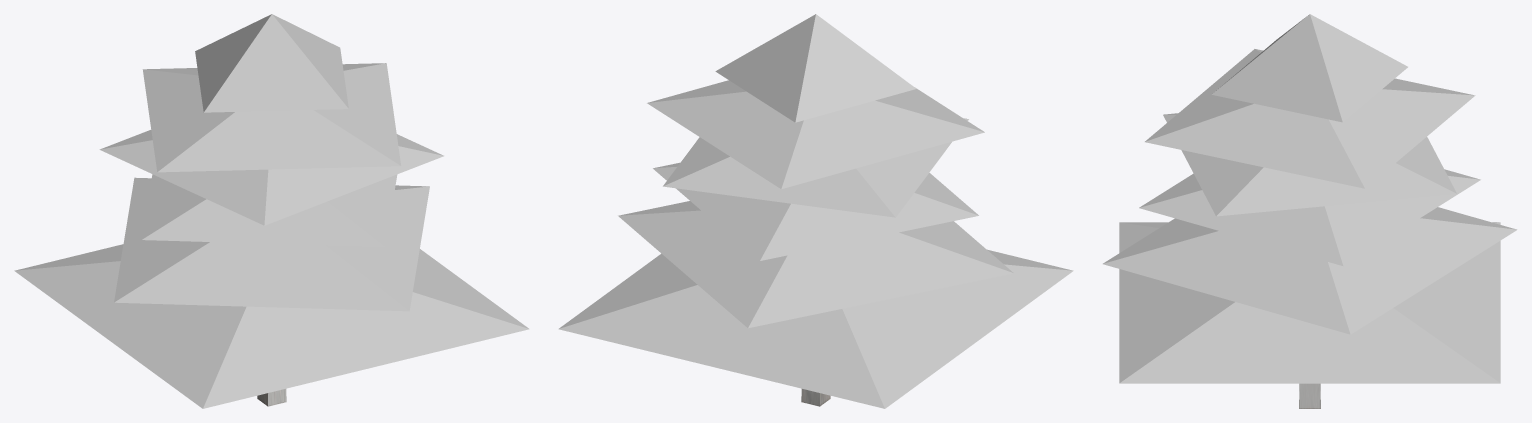
File: tree.fbx
The picture shows the model from 3 angles, left to right: view 1: azimuth 30°, elevation 25°; view 2: azimuth 150°, elevation 25°; view 3: azimuth 270°, elevation 25°; orthographic projection.
Visible parts, largest first — view 1: Plane, Plane.001, Plane.004, Plane.005, Plane.002, Plane.003; view 2: Plane, Plane.001, Plane.004, Plane.005, Plane.002, Plane.003; view 3: Plane, Plane.001, Plane.004, Plane.005, Plane.002, Plane.003, Cube.
Boxes of the visible parts, box(x1,y1,x2,y2) form: Plane: box(14, 244, 529, 408); Plane.001: box(114, 177, 429, 311); Plane.004: box(142, 63, 401, 172); Plane.005: box(195, 14, 348, 112); Plane.002: box(141, 174, 397, 247); Plane.003: box(99, 130, 443, 225); Plane: box(558, 249, 1073, 408); Plane.001: box(618, 201, 1013, 328); Plane.004: box(647, 80, 984, 189); Plane.005: box(715, 14, 916, 122); Plane.002: box(653, 162, 978, 260); Plane.003: box(663, 118, 968, 217); Plane: box(1119, 222, 1500, 383); Plane.001: box(1103, 207, 1517, 334); Plane.004: box(1145, 49, 1475, 188); Plane.005: box(1212, 14, 1407, 122); Plane.002: box(1139, 169, 1480, 266); Plane.003: box(1163, 113, 1456, 216); Cube: box(1299, 383, 1320, 408).
Bounding box in the file's own units: 1388 × 1439 × 1388.
